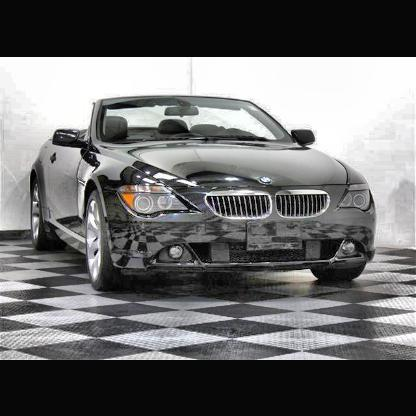BMW 6 Series Convertible 2007: (33, 95, 378, 293)
